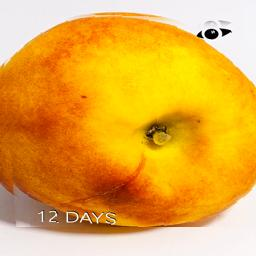Peach Semifresh: (0, 11, 256, 227)
